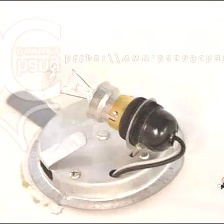light_bulb: (35, 52, 139, 132)
